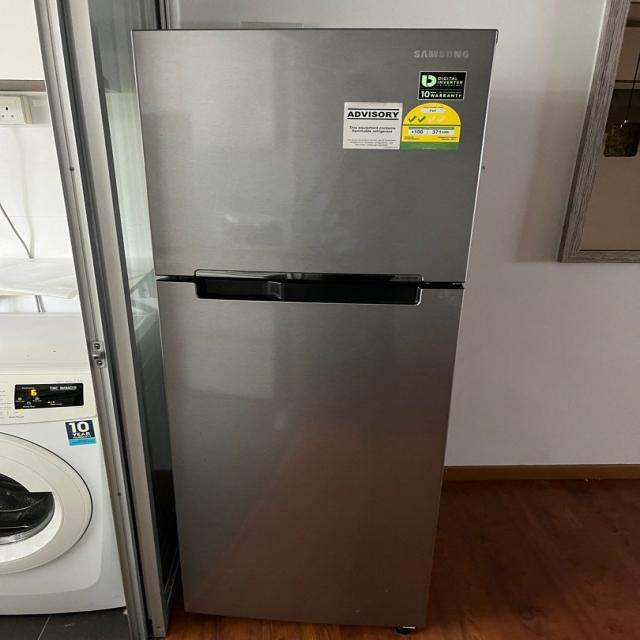refrigerator: (132, 16, 482, 636)
